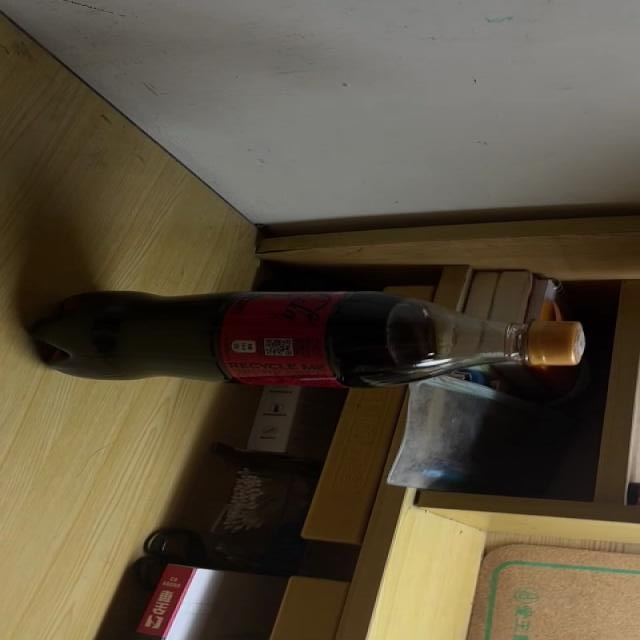Coca-Cola: (26, 292, 586, 387)
